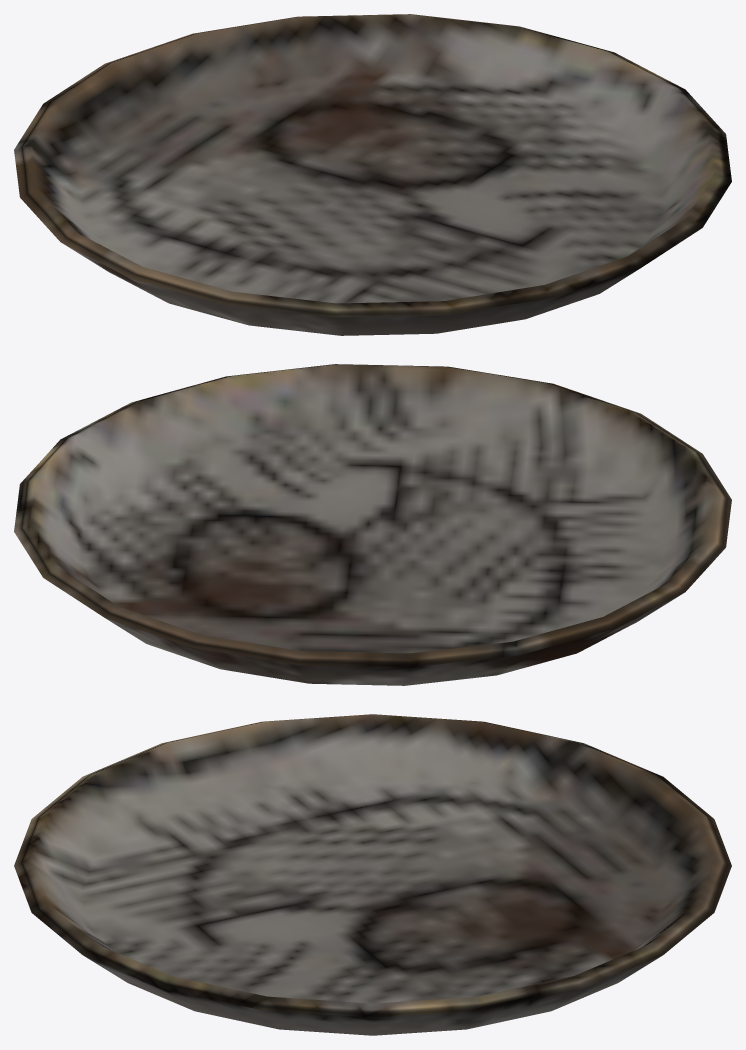
Rendered from plate2.fbx.
3 views of the same model, one above another, from view 1: azimuth 30°, elevation 25°; view 2: azimuth 150°, elevation 25°; view 3: azimuth 270°, elevation 25° (orthographic).
Visible parts, largest first — view 1: Strove.001; view 2: Strove.001; view 3: Strove.001.
Part boxes in pixels (<box>): Strove.001: <box>14,14,731,335</box>; Strove.001: <box>14,364,731,685</box>; Strove.001: <box>14,714,731,1035</box>.
Size of the model in its own units: 28.44 by 2.12 by 28.44.
Materials: 1 (1 with a texture image).
